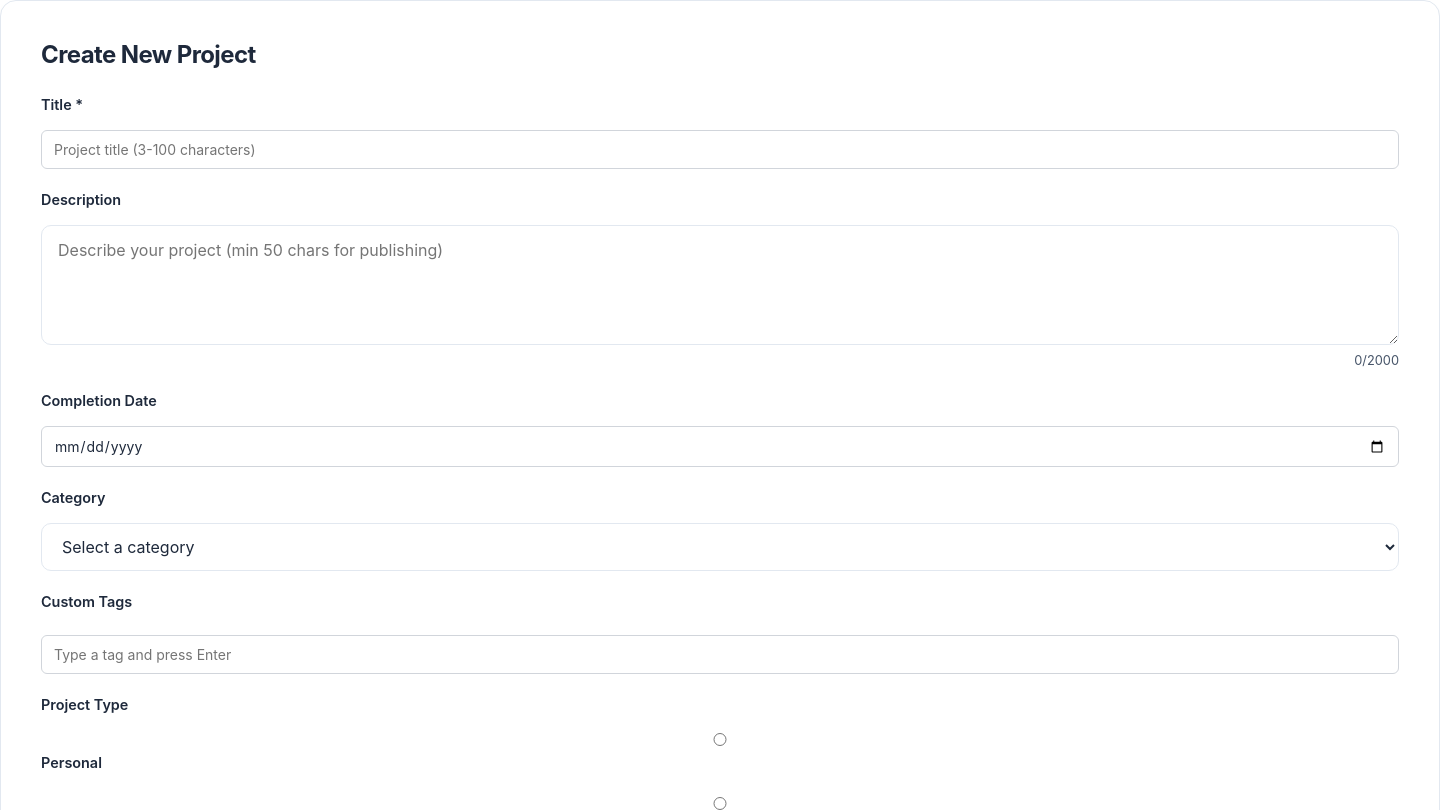
ProjectForm › Tags › adds a tag when pressing Enter
In the field named "add tag": [720, 655] box left=41, top=635, right=1399, bottom=674, type "react"
Then press Enter
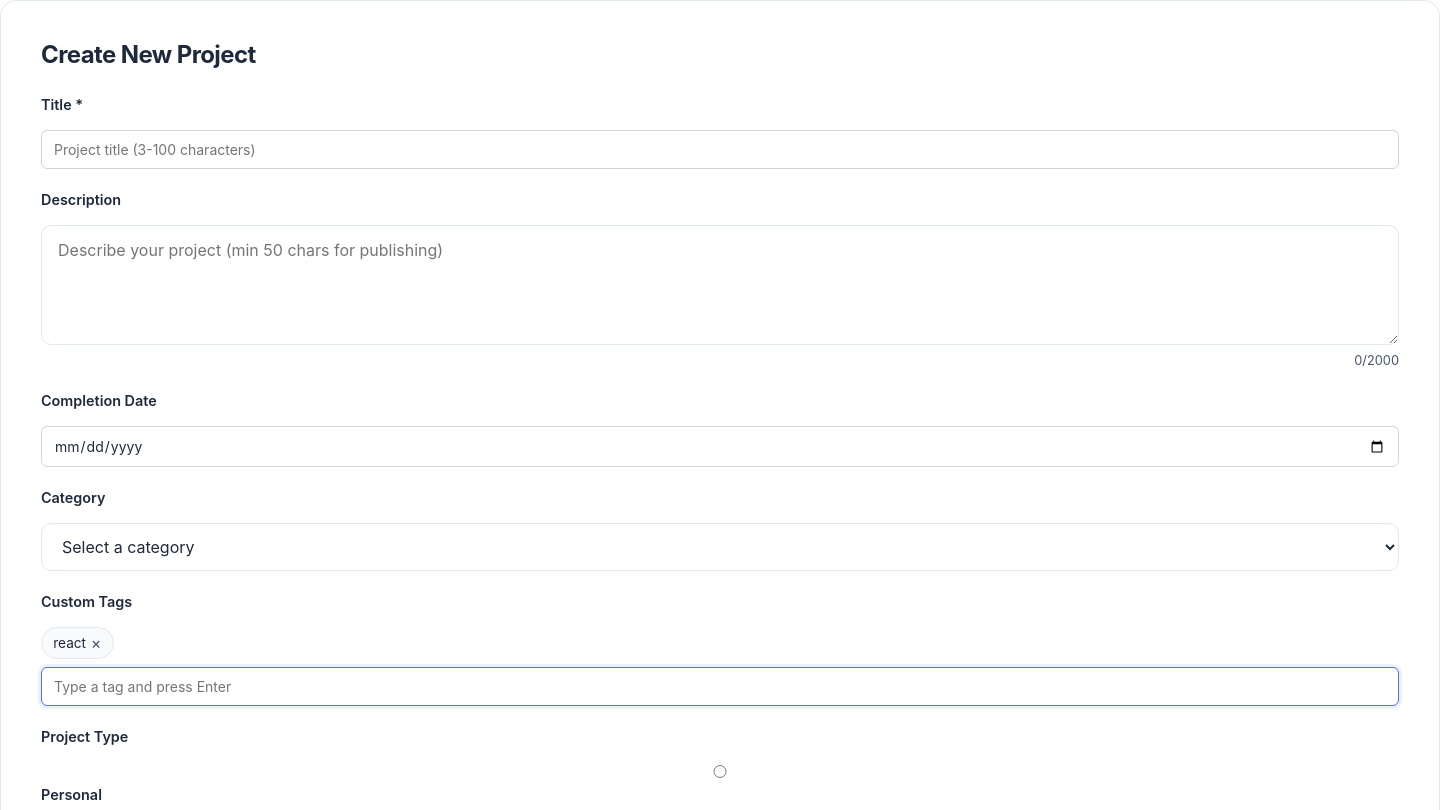
Check: the text "react" is shown, box left=53, top=635, right=86, bottom=651
